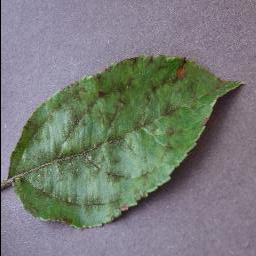apple healthy: (3, 52, 246, 230)
